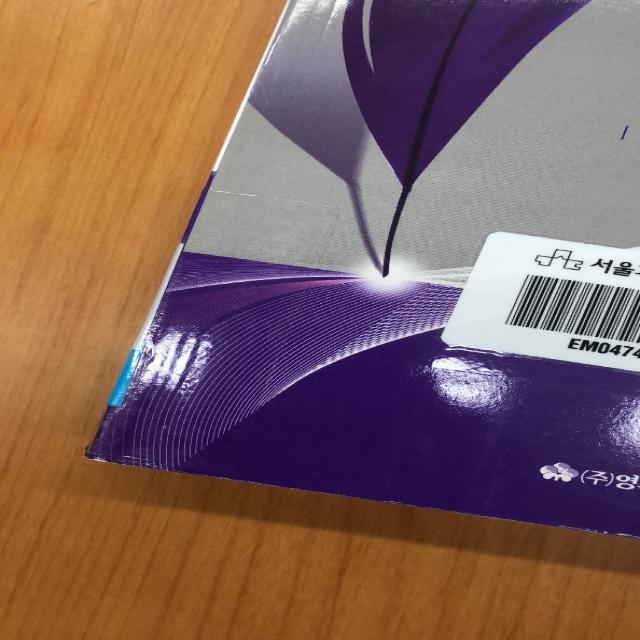Wornout: (76, 439, 153, 469), (451, 511, 546, 526), (556, 523, 639, 540), (287, 486, 356, 499), (206, 476, 280, 488), (380, 501, 444, 511)
